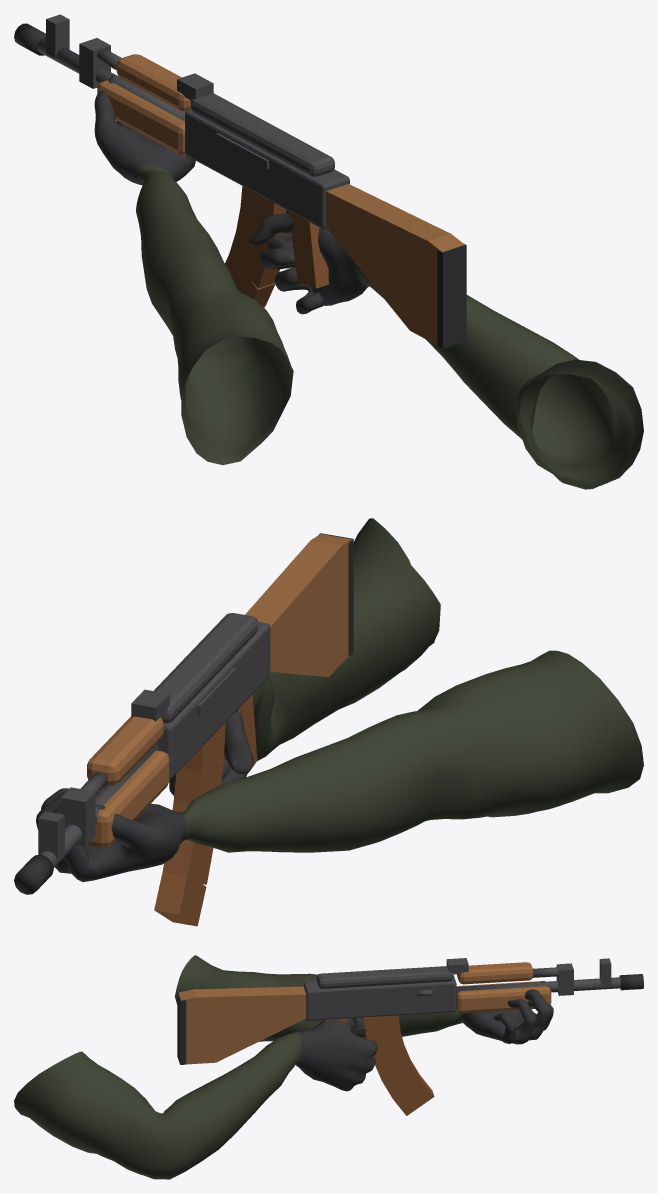
File: rifle_fp.glb
3 renders of one model, top to bottom at view 1: azimuth 30°, elevation 25°; view 2: azimuth 150°, elevation 25°; view 3: azimuth 270°, elevation 25°, orthographic. The views are drawn at different scales.
Visible parts, largest first — view 1: Arms, Stock, Receiver, DustCover, ButtPlate, HandguardLow, HandguardUp, Grip, Barrel, Mag2, GasBlock, Mag0 (+4 smaller); view 2: Arms, Stock, Receiver, DustCover, HandguardLow, HandguardUp, Mag4, GasBlock, Mag3, Mag1, Barrel, FrontSight (+6 smaller); view 3: Arms, Stock, Receiver, DustCover, HandguardLow, HandguardUp, Barrel, Mag4, Mag3, Mag0, Mag2, ButtPlate (+5 smaller).
Boxes of the visible parts, x1,y1,x2,y2 form: Arms: (94,75,643,489); Stock: (326,184,464,344); Receiver: (185,109,349,229); DustCover: (190,93,334,176); ButtPlate: (437,244,466,348); HandguardLow: (97,80,185,155); HandguardUp: (116,54,190,111); Grip: (288,211,328,288); Barrel: (37,37,185,121); Mag2: (229,232,279,288); GasBlock: (79,38,110,88); Mag0: (240,186,286,224); Arms: (36,518,643,881); Stock: (245,534,351,677); Receiver: (156,622,270,778); DustCover: (154,613,257,723); HandguardLow: (87,750,169,847); HandguardUp: (87,716,163,785); Mag4: (154,872,206,926); GasBlock: (61,787,95,846); Mag3: (162,840,213,884); Mag1: (173,759,223,804); Barrel: (40,744,160,867); FrontSight: (38,811,64,862); Arms: (14,955,553,1179); Stock: (178,986,306,1064); Receiver: (303,975,456,1020); DustCover: (316,966,453,988); HandguardLow: (456,981,551,1013); HandguardUp: (457,962,533,984); Barrel: (456,977,621,993); Mag4: (393,1075,434,1115); Mag3: (381,1060,422,1098); Mag0: (363,1015,400,1038); Mag2: (375,1046,412,1079); ButtPlate: (177,992,186,1064).
Size of the model in its own units: 0.4732 by 0.2836 by 0.9677.
